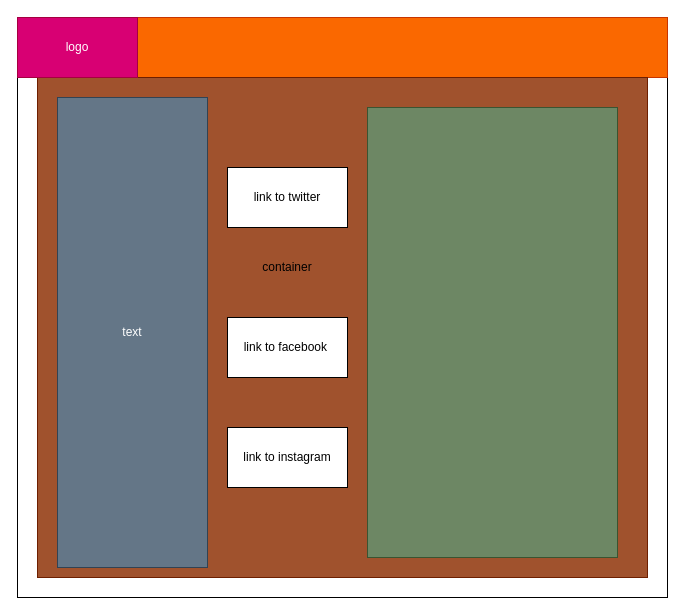
The diagram is 685 pixels wide and 615 high, and some of its shapes have lost their labels. Each missing label, with the box of its shape:
div - nav bar: (16, 16, 668, 78)
images: (366, 106, 618, 558)
